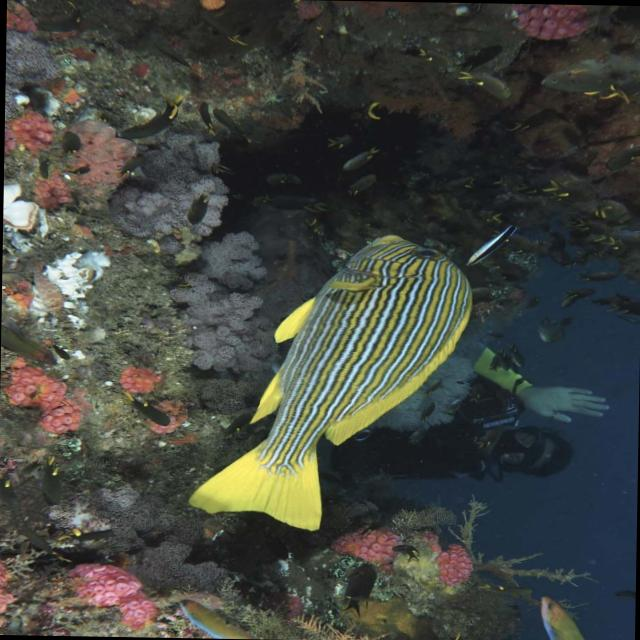RibbonedSweetlips: (189, 228, 476, 534)
